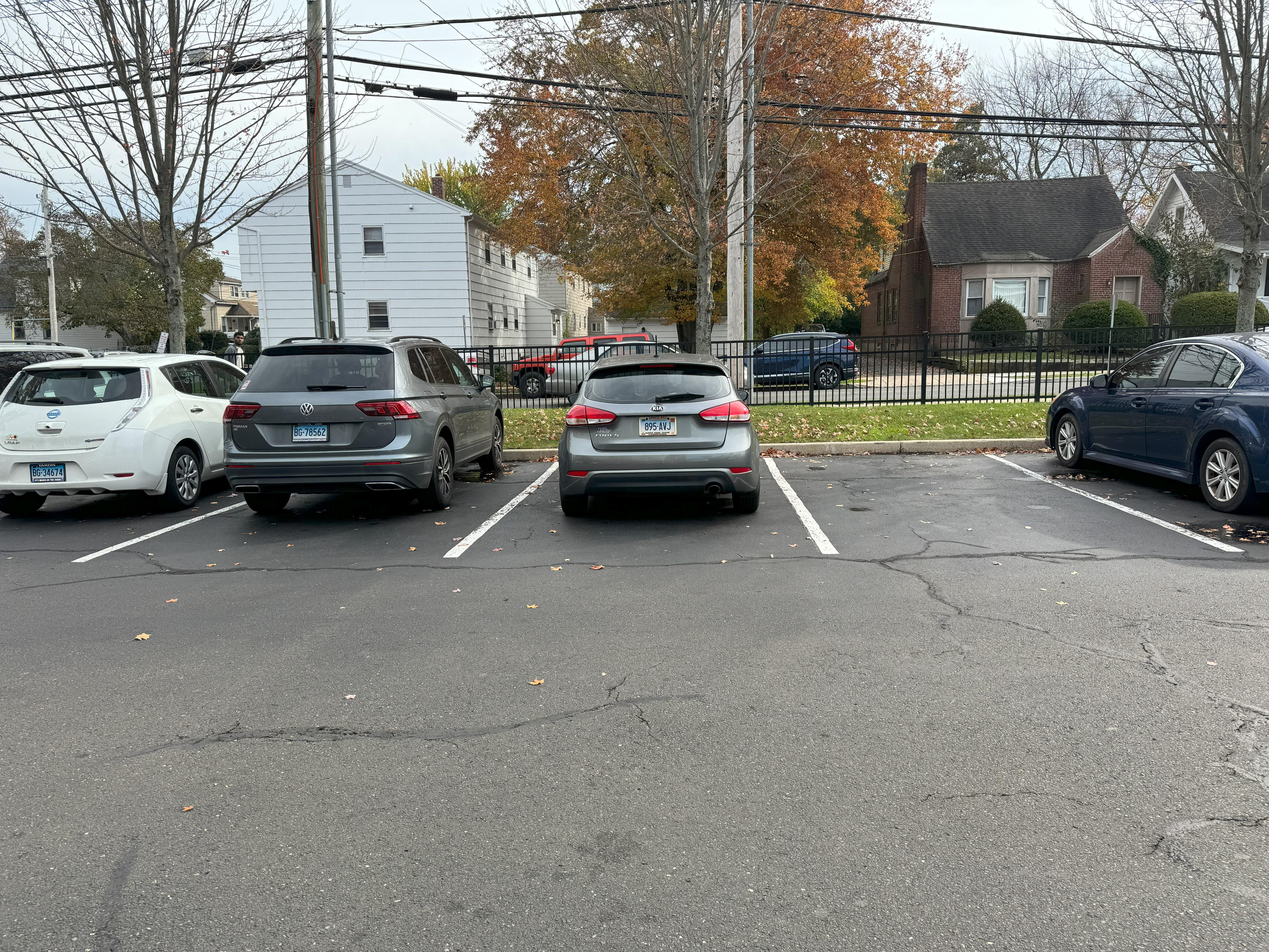empty: (811, 456, 1027, 574)
occupied: (236, 312, 514, 542), (1038, 292, 1258, 545), (551, 323, 775, 551), (9, 327, 212, 538)
